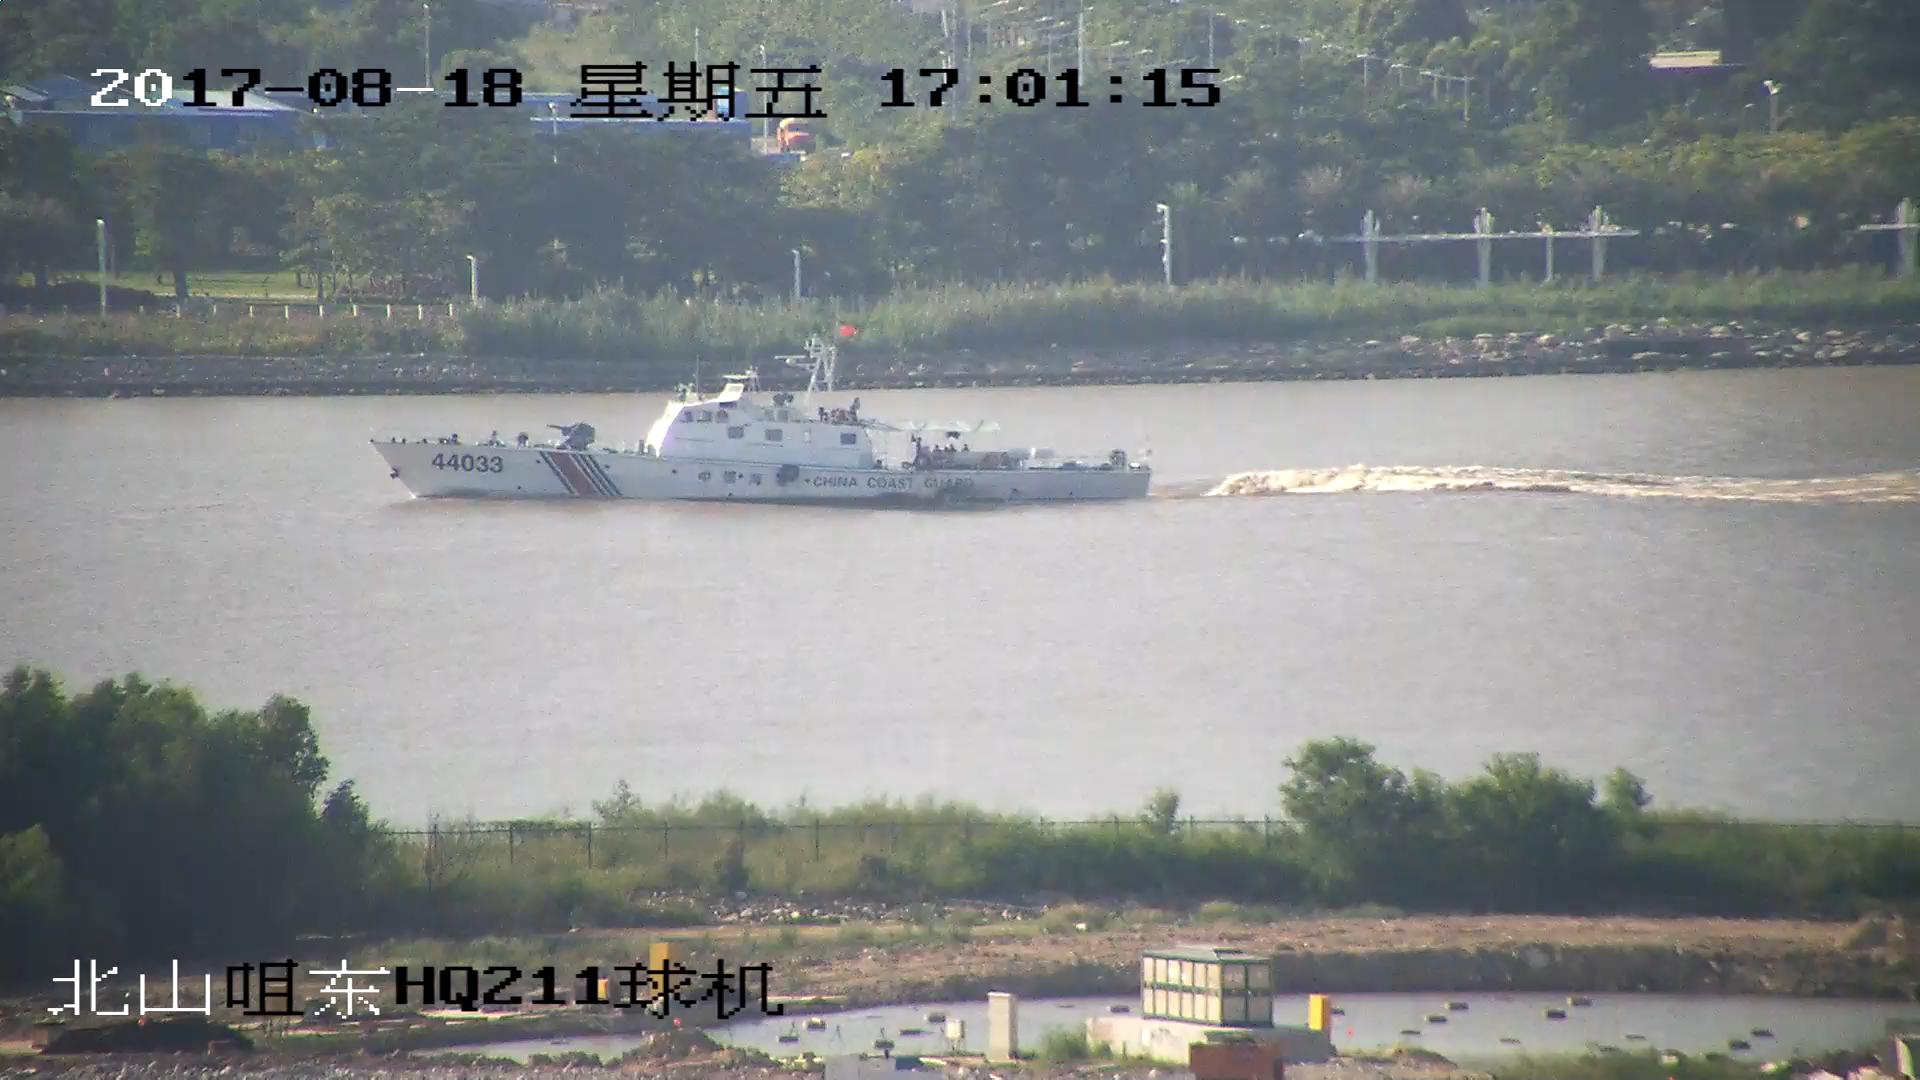passenger ship: (374, 326, 1152, 508)
